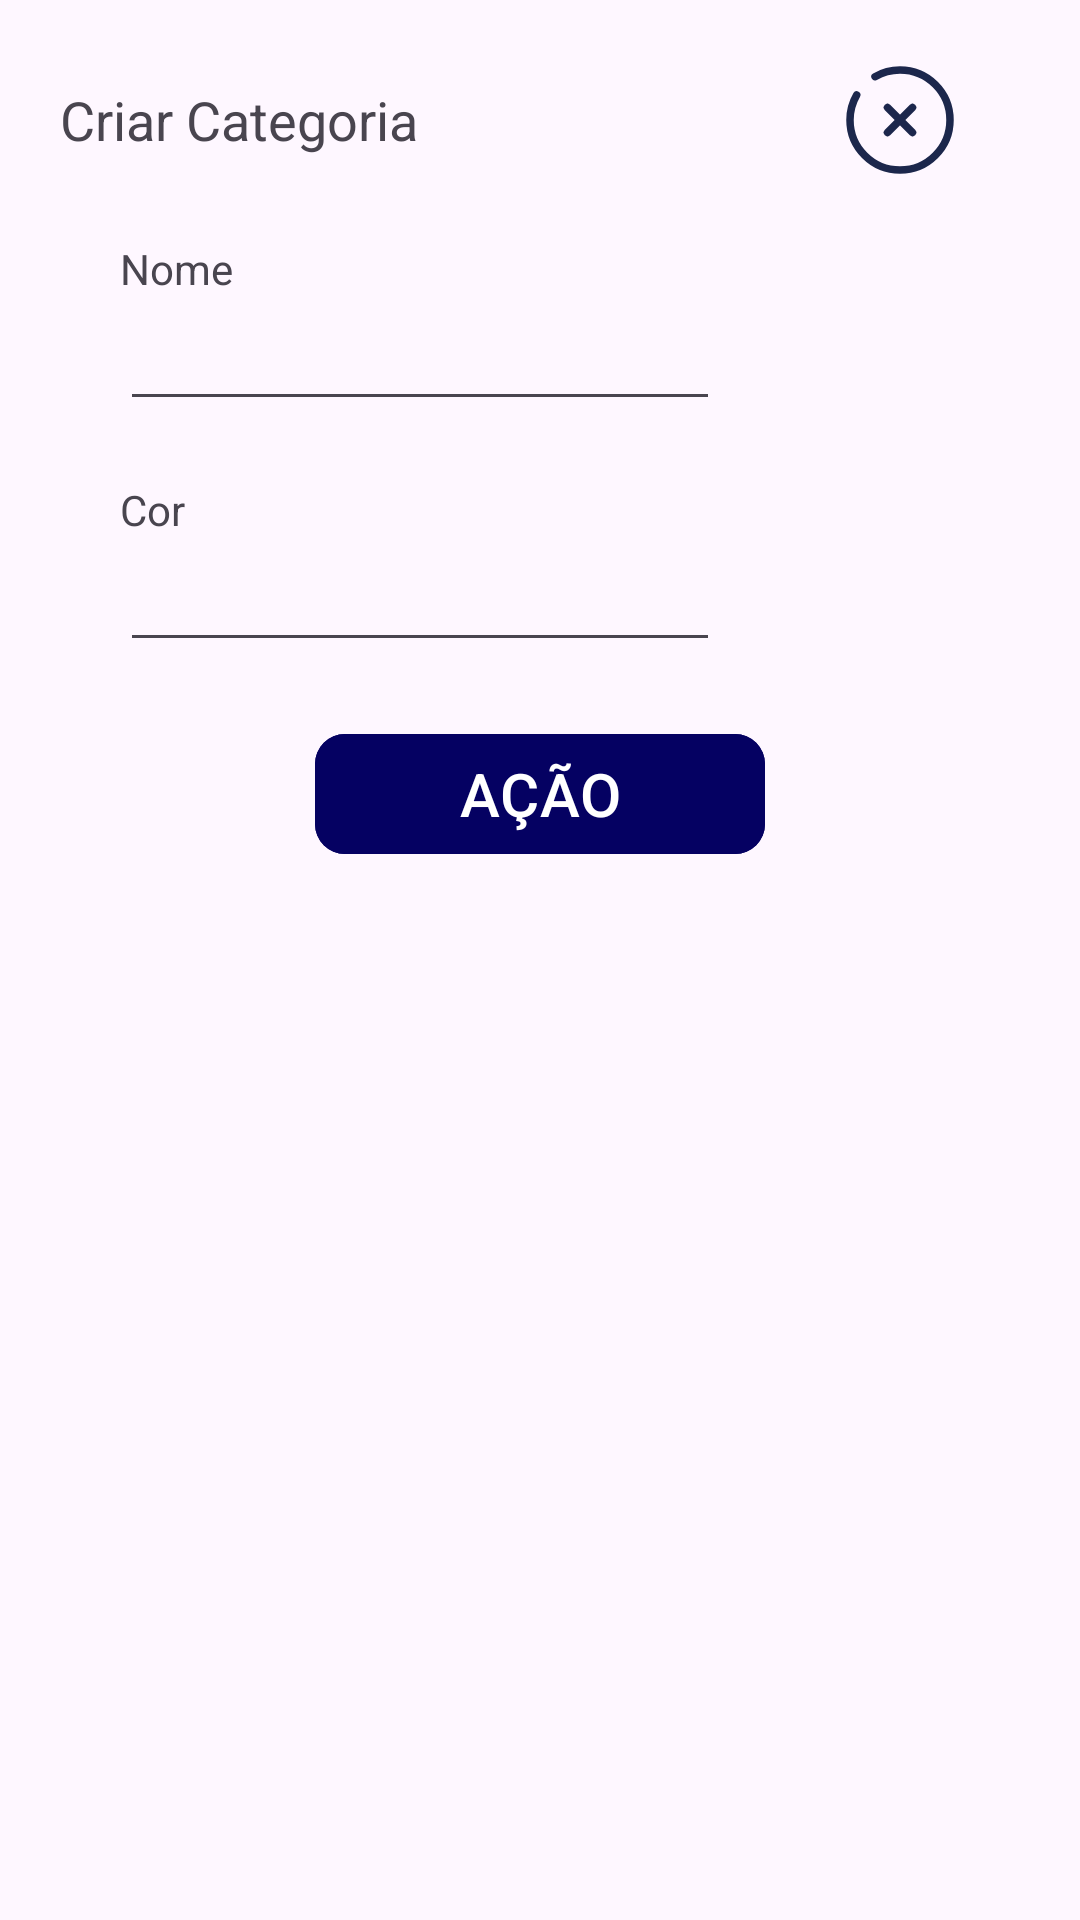

Locate icon controls on the screen. Image size 1080w x 1920h, boxes as rect(x1, y1, x2, y2).
fechar: rect(846, 66, 954, 174)
